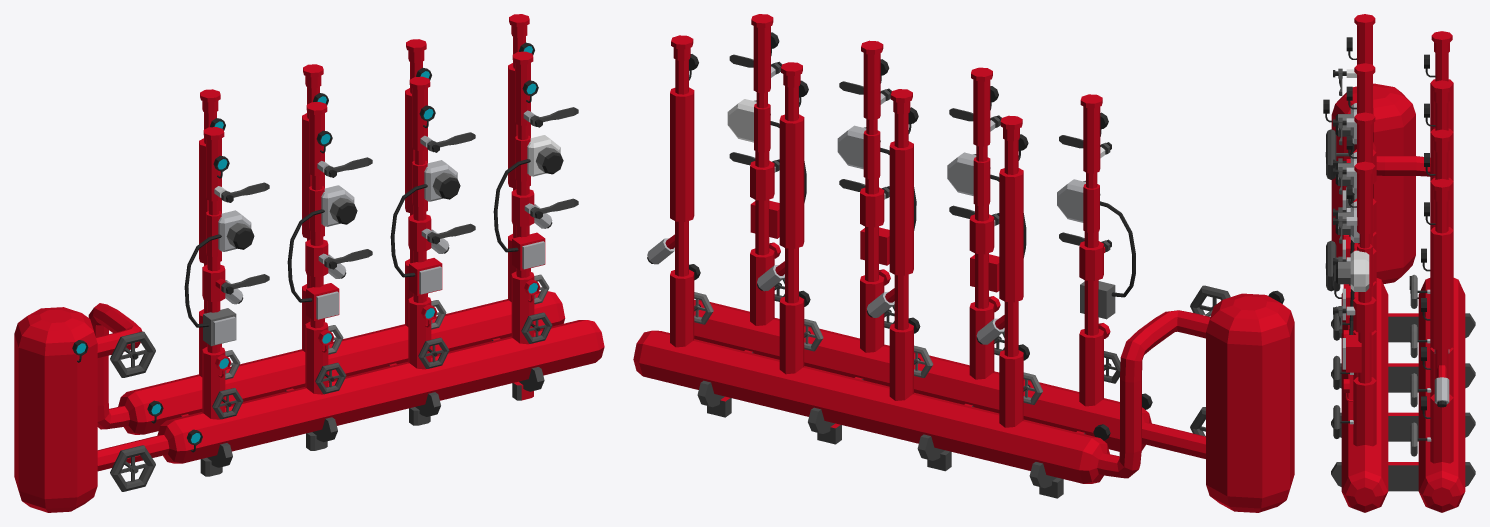
File: Collector.fbx
3 views of the same model, side by side, from view 1: azimuth 30°, elevation 25°; view 2: azimuth 150°, elevation 25°; view 3: azimuth 270°, elevation 25° (orthographic). The views are drawn at different scales.
Visible parts, largest first — view 1: Collector; view 2: Collector; view 3: Collector.
Part boxes in pixels (x1=…): Collector: x1=14, y1=14, x2=604, y2=512; Collector: x1=633, y1=14, x2=1294, y2=512; Collector: x1=1323, y1=14, x2=1475, y2=512.
Size of the model in its own units: 348 by 198 by 81.6.
